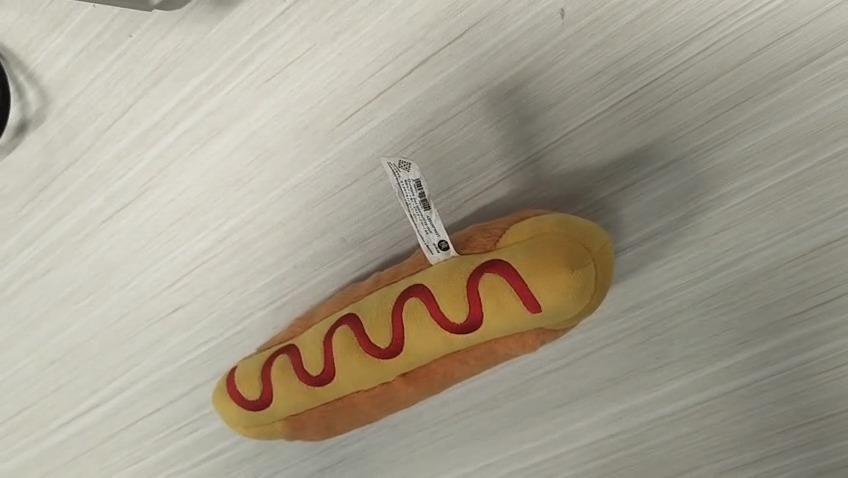hotdog: (211, 206, 615, 442)
